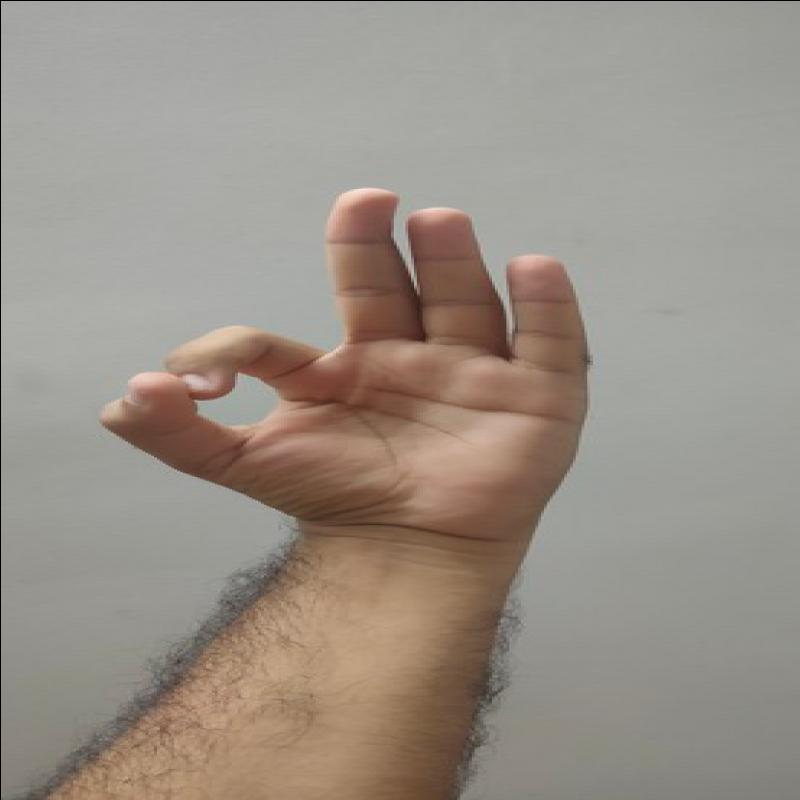Mudraakhyam: (89, 178, 615, 594)
